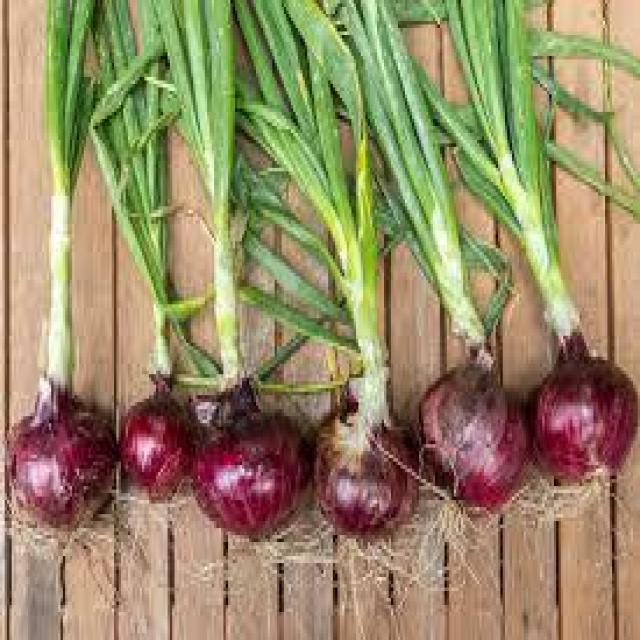Onion: (391, 0, 640, 339), (233, 3, 391, 420), (333, 2, 512, 351), (89, 0, 214, 381), (156, 2, 237, 383), (44, 0, 100, 385), (194, 381, 313, 542), (416, 351, 530, 516), (3, 376, 118, 533), (533, 343, 640, 479), (312, 404, 419, 537), (118, 379, 202, 509)
